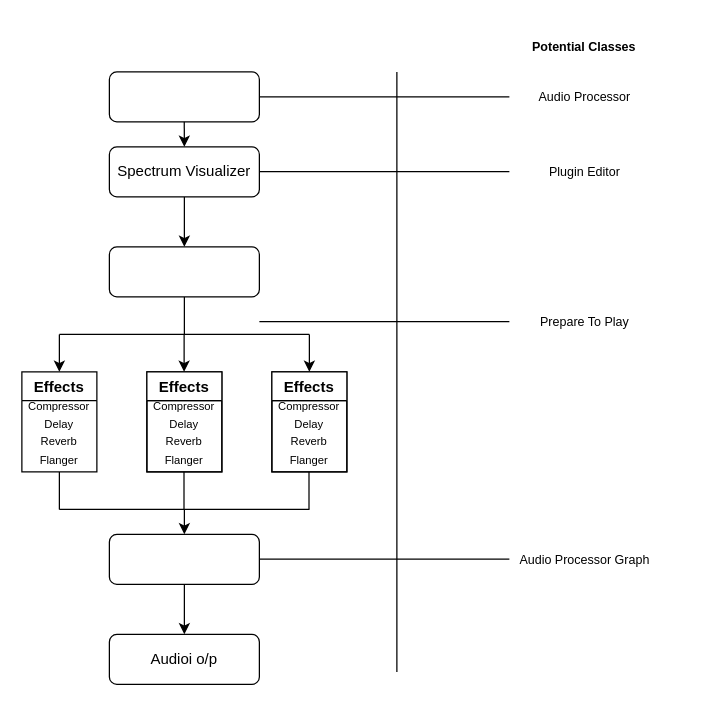
Some shapes in this 706 by 706 pixel diagram are drawn without their labels. Each missing label, with the centre of its shape:
Audioi i/p: pixel 183 96
Chain Effects: pixel 183 558
Split 3 Frequency Bands: pixel 183 271
